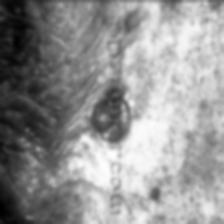Potentially Malignant Skin Tumors: (90, 90, 110, 144), (119, 94, 132, 146)
